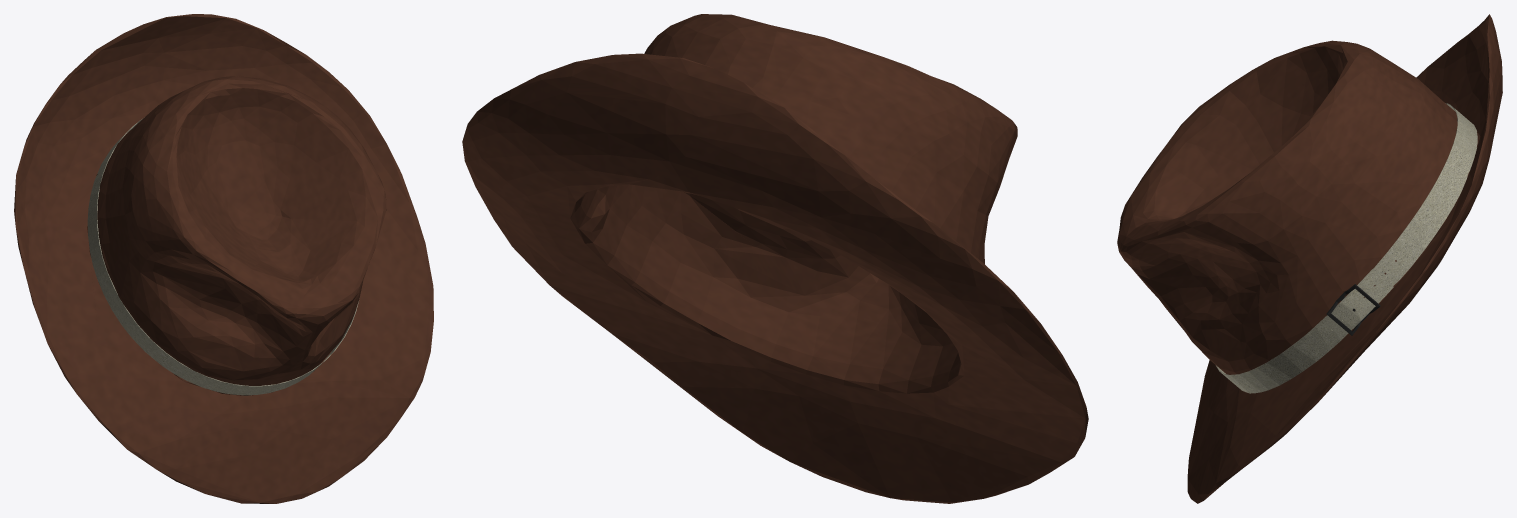
File: dude hat.fbx
The picture shows the model from 3 angles, left to right: view 1: azimuth 30°, elevation 25°; view 2: azimuth 150°, elevation 25°; view 3: azimuth 270°, elevation 25°; orthographic projection. The views are drawn at different scales.
Visible parts, largest first — view 1: Hat, Belt; view 2: Hat; view 3: Hat, Belt, Badge.
Part boxes in pixels (<box>): Hat: <box>14,14,433,503</box>; Belt: <box>87,119,358,395</box>; Hat: <box>462,14,1088,503</box>; Hat: <box>1117,14,1502,503</box>; Belt: <box>1216,103,1477,393</box>; Badge: <box>1326,284,1380,335</box>.
Size of the model in its own units: 98.85 by 95.86 by 74.58.
3 materials, 2 textured.
